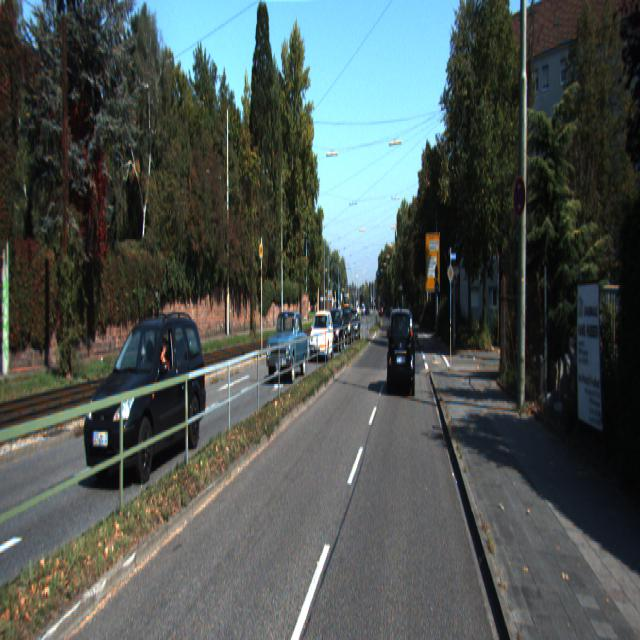Car: (84, 307, 209, 485), (266, 310, 310, 383), (388, 306, 417, 398), (310, 310, 335, 364), (327, 308, 346, 354), (340, 306, 356, 346)
